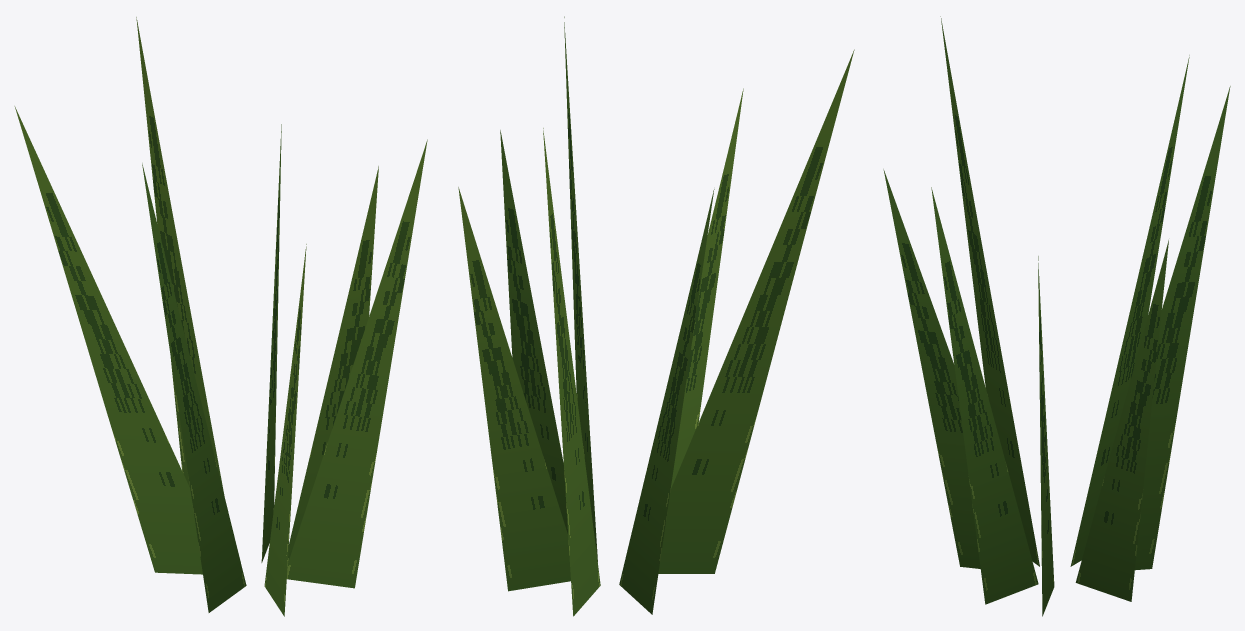
The model's file is wild.reeds.glb.
The picture shows the model from 3 angles, left to right: view 1: azimuth 30°, elevation 25°; view 2: azimuth 150°, elevation 25°; view 3: azimuth 270°, elevation 25°; orthographic projection. The views are drawn at different scales.
Parts seen in each view (by area): view 1: kit_shell_blades; view 2: kit_shell_blades; view 3: kit_shell_blades.
Part boxes in pixels (x1,y1,x2,y2): kit_shell_blades: (14,17,427,616); kit_shell_blades: (458,16,854,616); kit_shell_blades: (883,16,1230,616).
Bounding box in the file's own units: 0.6181 × 1.03 × 0.674.
1 material, 1 textured.
